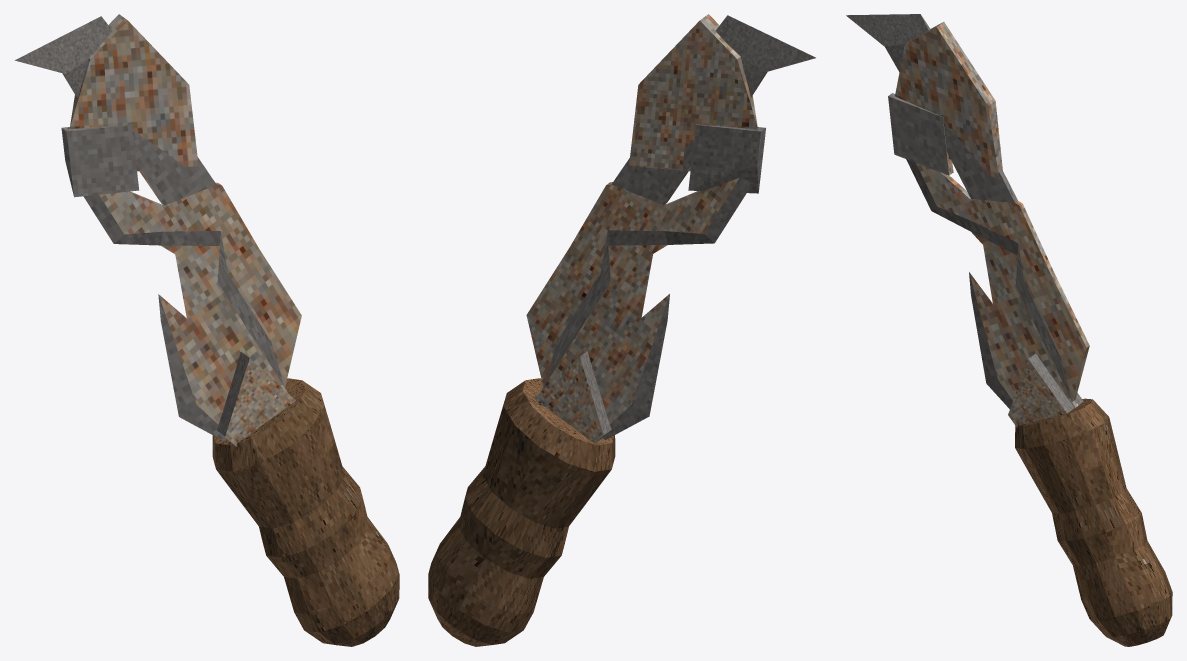
File: Knife.fbx
3 renders of one model, left to right at view 1: azimuth 30°, elevation 25°; view 2: azimuth 150°, elevation 25°; view 3: azimuth 330°, elevation 25°, orthographic. The views are drawn at different scales.
Parts seen in each view (by area): view 1: Plane, Cylinder.001, Cube; view 2: Plane, Cylinder.001, Cube; view 3: Plane, Cylinder.001, Cube.
Part boxes in pixels (bbox=[...]): Plane: bbox=[14, 14, 301, 440]; Cylinder.001: bbox=[212, 378, 399, 646]; Cube: bbox=[216, 352, 295, 446]; Plane: bbox=[526, 14, 815, 440]; Cylinder.001: bbox=[428, 378, 615, 646]; Cube: bbox=[534, 351, 611, 443]; Plane: bbox=[846, 14, 1089, 408]; Cylinder.001: bbox=[1015, 398, 1172, 646]; Cube: bbox=[1008, 353, 1083, 427].
Size of the model in its own units: 107 by 183 by 20.11.
Materials: 3 (3 with a texture image).
